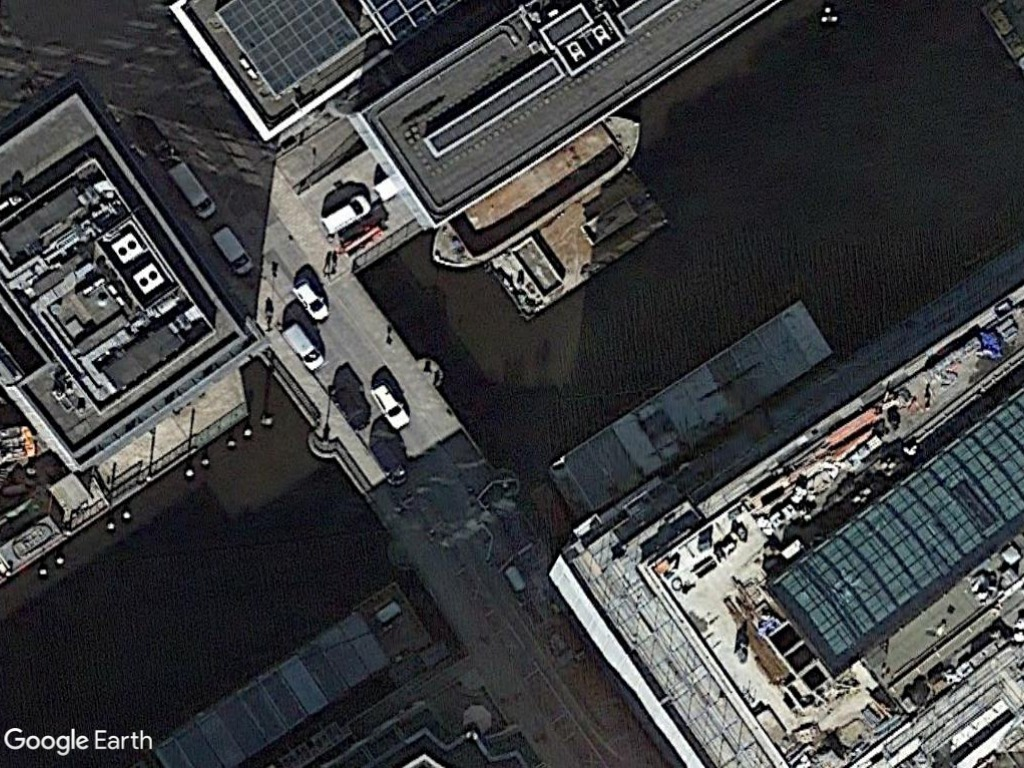car: (367, 379, 413, 434), (288, 277, 333, 323)
van: (161, 157, 219, 224), (318, 189, 376, 240), (277, 322, 327, 373), (210, 222, 254, 276)
